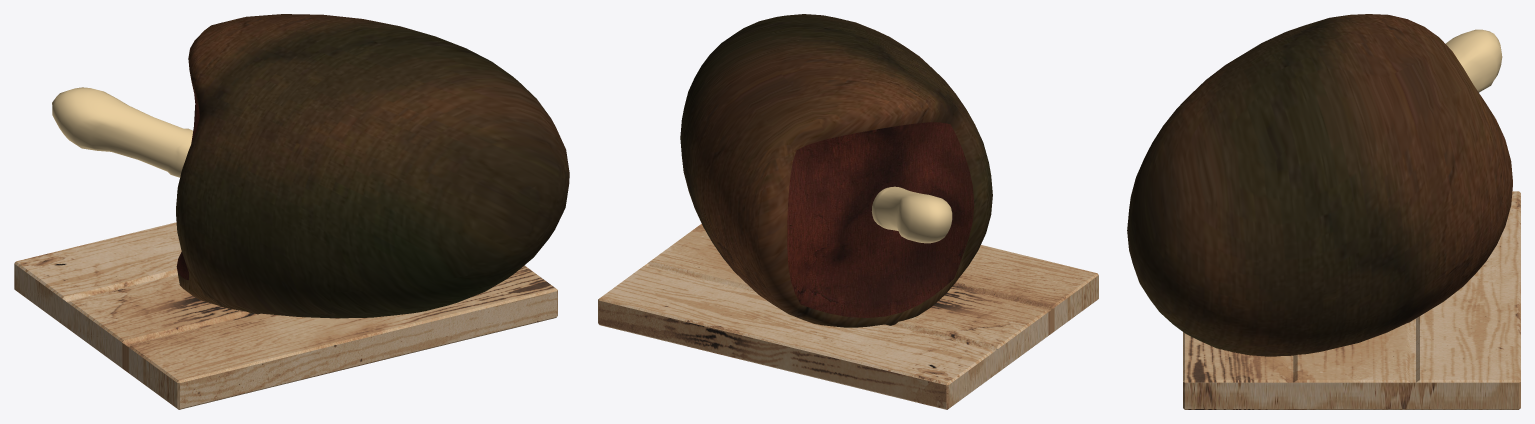
Rendered from board_and_meat.fbx.
3 views of the same model, side by side, from view 1: azimuth 30°, elevation 25°; view 2: azimuth 150°, elevation 25°; view 3: azimuth 270°, elevation 25° (orthographic). The views are drawn at different scales.
Parts seen in each view (by area): view 1: Cube, Plane.002, Cube.001; view 2: Cube, Plane.002, Cube.001; view 3: Cube, Plane.002, Cube.001.
Boxes of the visible parts, <box> form: Cube: <box>176,14,569,318</box>; Plane.002: <box>14,222,557,409</box>; Cube.001: <box>52,87,192,177</box>; Cube: <box>680,14,992,327</box>; Plane.002: <box>598,223,1098,409</box>; Cube.001: <box>871,186,952,243</box>; Cube: <box>1127,14,1512,356</box>; Plane.002: <box>1183,191,1520,409</box>; Cube.001: <box>1445,29,1502,92</box>.
Bounding box in the file's own units: 0.4243 × 0.2778 × 0.3495.
